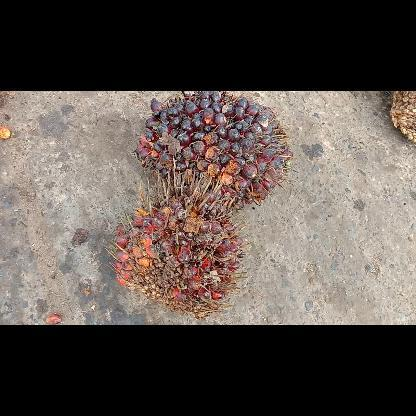Kurang masak: (131, 90, 294, 209)
TBS masak: (104, 171, 250, 317)
